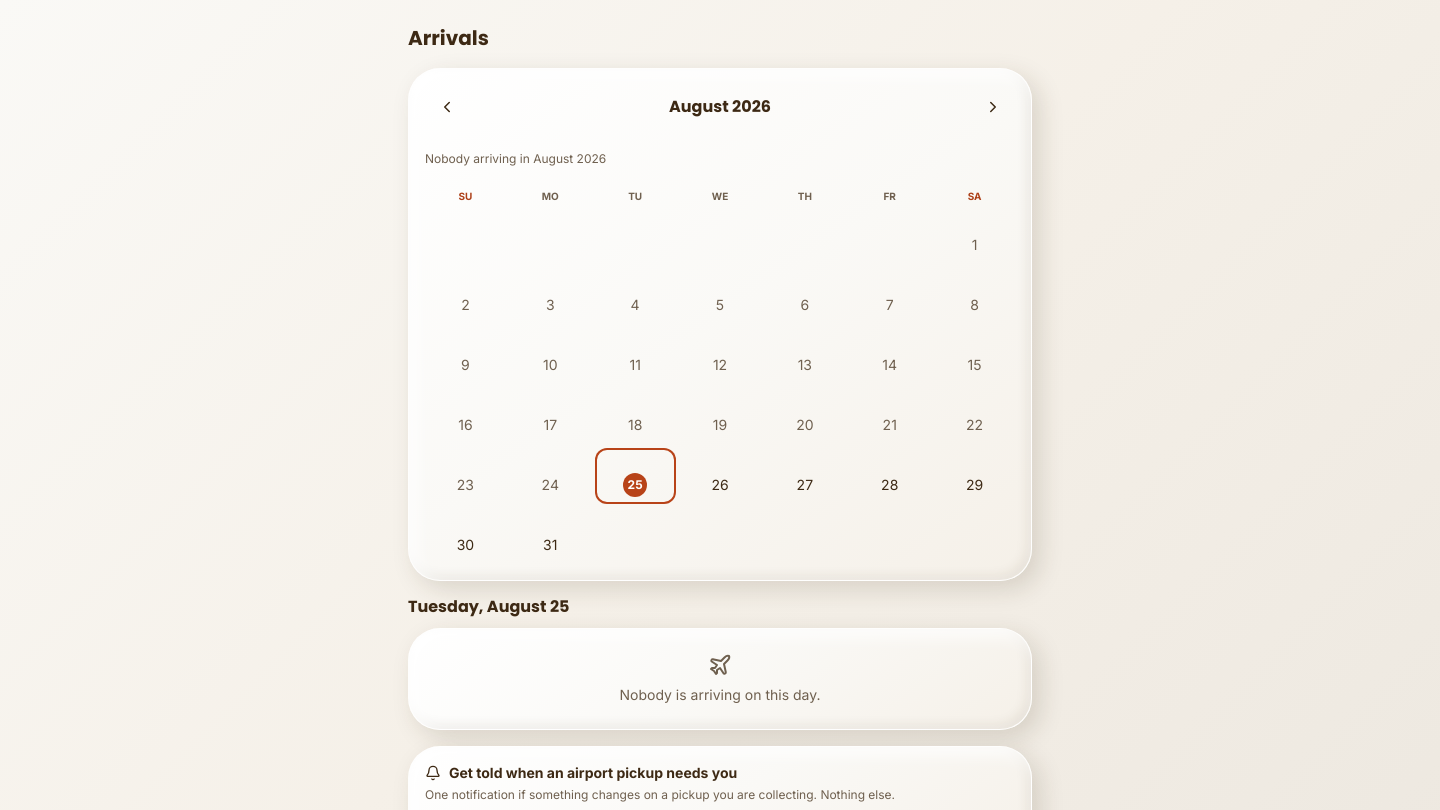
Test: the day list below the grid › still lists a finished trip, under a heading that says it is done
Click the button "26": click(720, 476) [680,448,760,504]
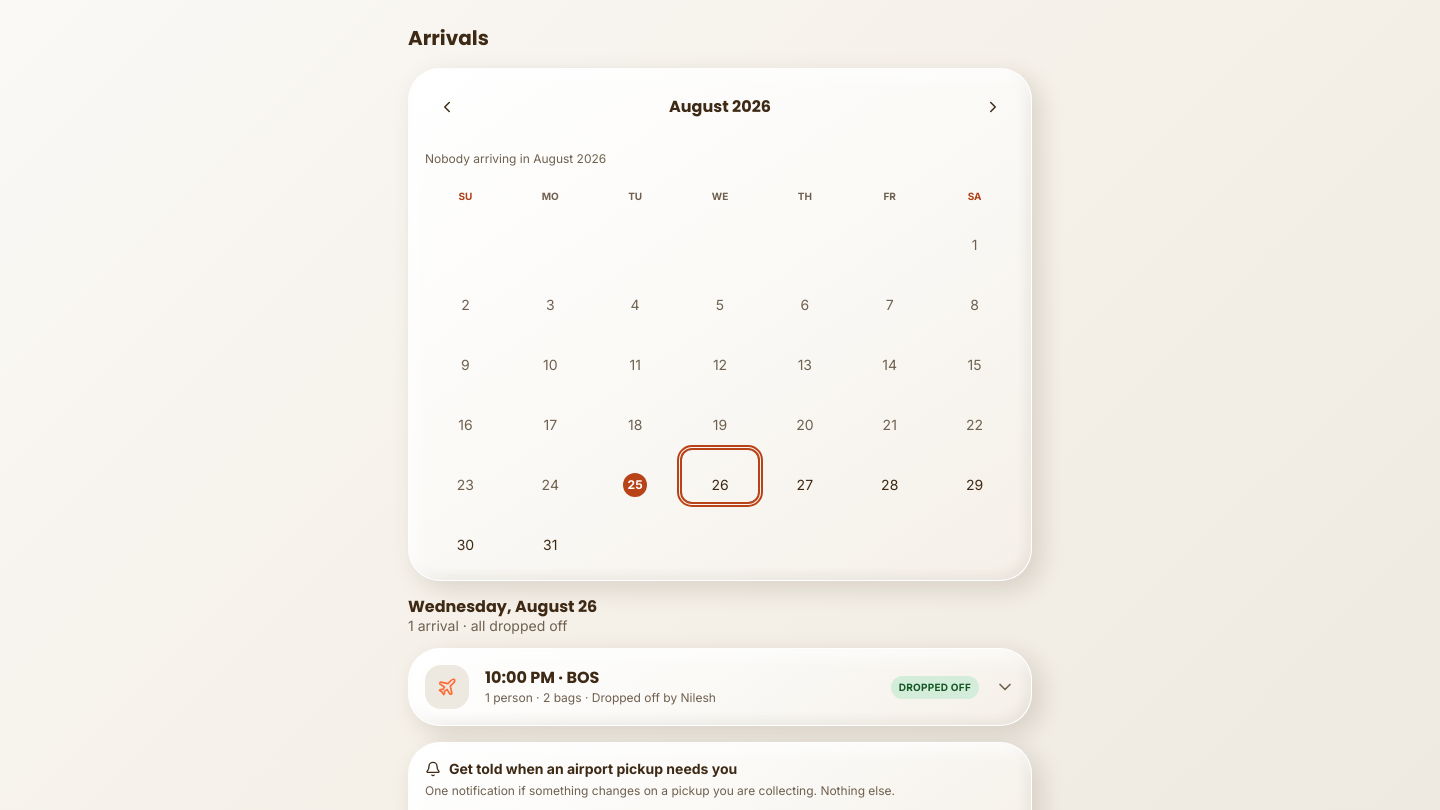
Result: the text "1 arrival · all dropped off" is shown at [408,617,567,634]
